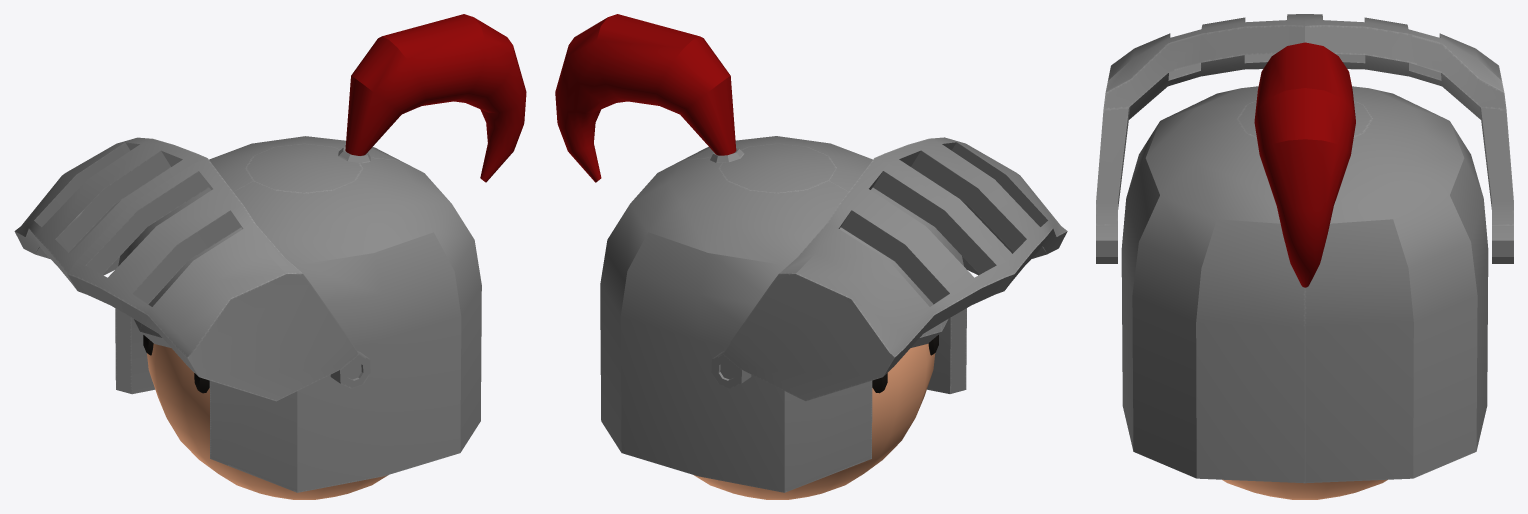
Rendered from Player.fbx.
3 views of the same model, side by side, from view 1: azimuth 30°, elevation 25°; view 2: azimuth 150°, elevation 25°; view 3: azimuth 270°, elevation 25° (orthographic). The views are drawn at different scales.
Visible parts, largest first — view 1: Helmet, Player; view 2: Helmet, Player; view 3: Helmet, Player.
Boxes of the visible parts, x1=… form: Helmet: x1=14, y1=14, x2=526, y2=492; Player: x1=143, y1=335, x2=388, y2=499; Helmet: x1=555, y1=14, x2=1067, y2=492; Player: x1=694, y1=335, x2=938, y2=499; Helmet: x1=1096, y1=14, x2=1513, y2=483; Player: x1=1222, y1=479, x2=1387, y2=499.
Bounding box in the file's own units: 116 × 103 × 80.25.
